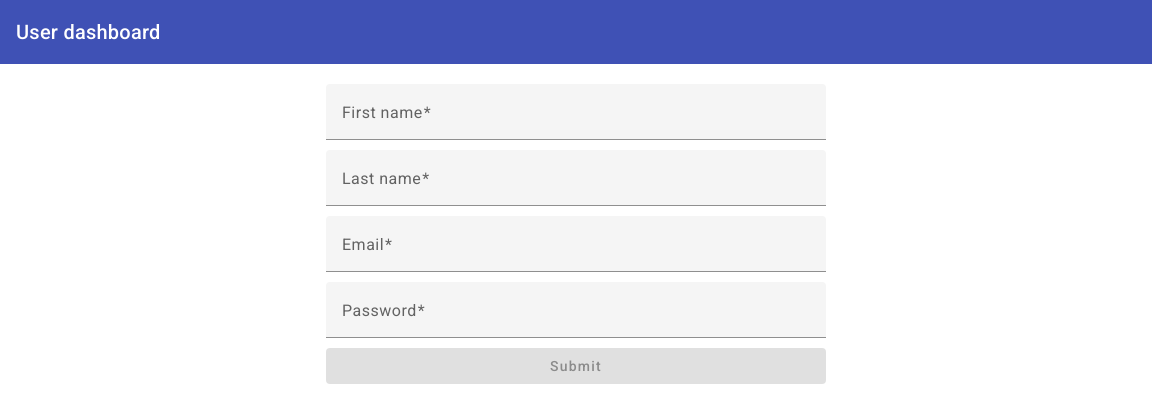
Test case: Signup form › Submit button should be enabled
This screenshot has width=1152, height=404.
Type "Bruno" into the field with test id "signup-first-name" at (576, 120), box [342,108,810,132]
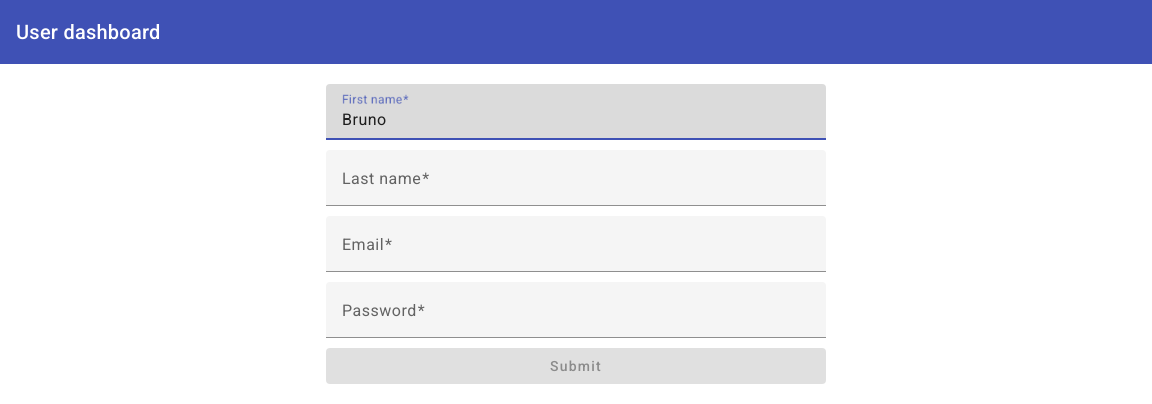
Type "Queiros" into the field with test id "signup-last-name" at (576, 186), box [342,174,810,198]
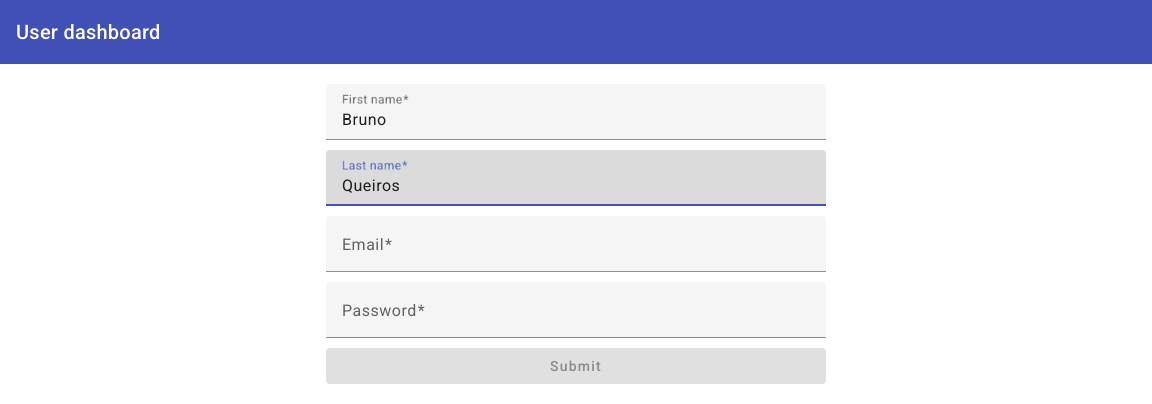
Type "bruno@bruno.com" into the field with test id "signup-email" at (576, 252), box [342,240,810,264]
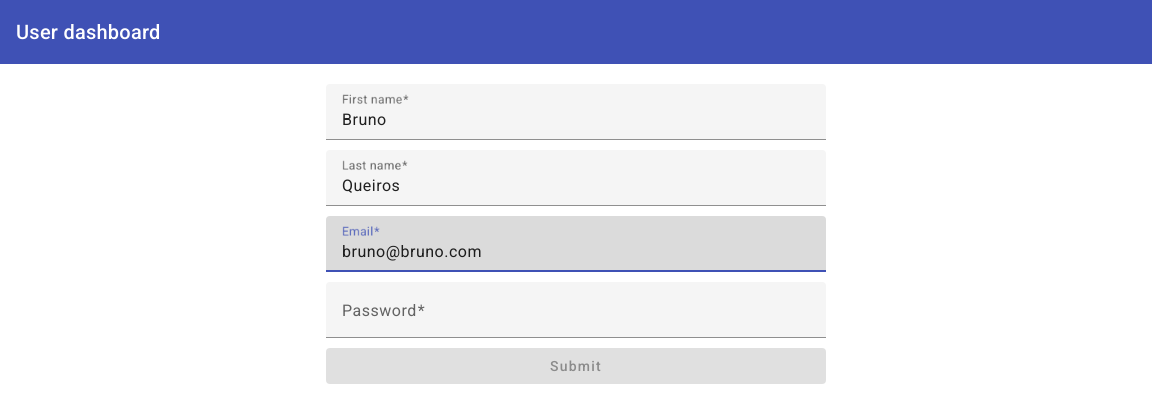
Type "1234QWEasd" into the password field with test id "signup-password" at (576, 318), box [342,306,810,330]
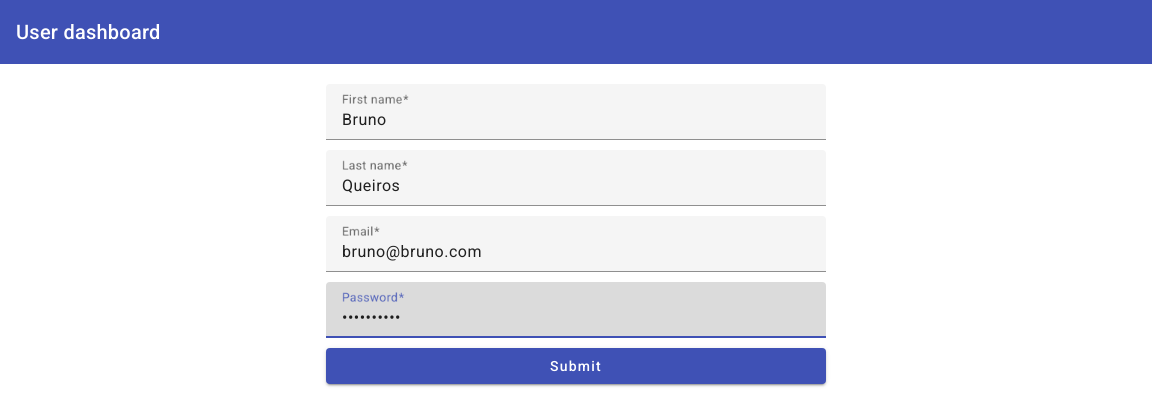
Now the button with test id "signup-submit-button" is enabled, box [326,348,826,384]
